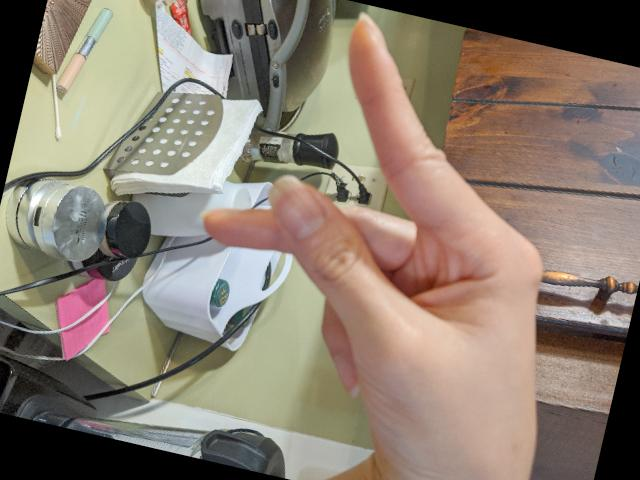P: (152, 0, 631, 480)
